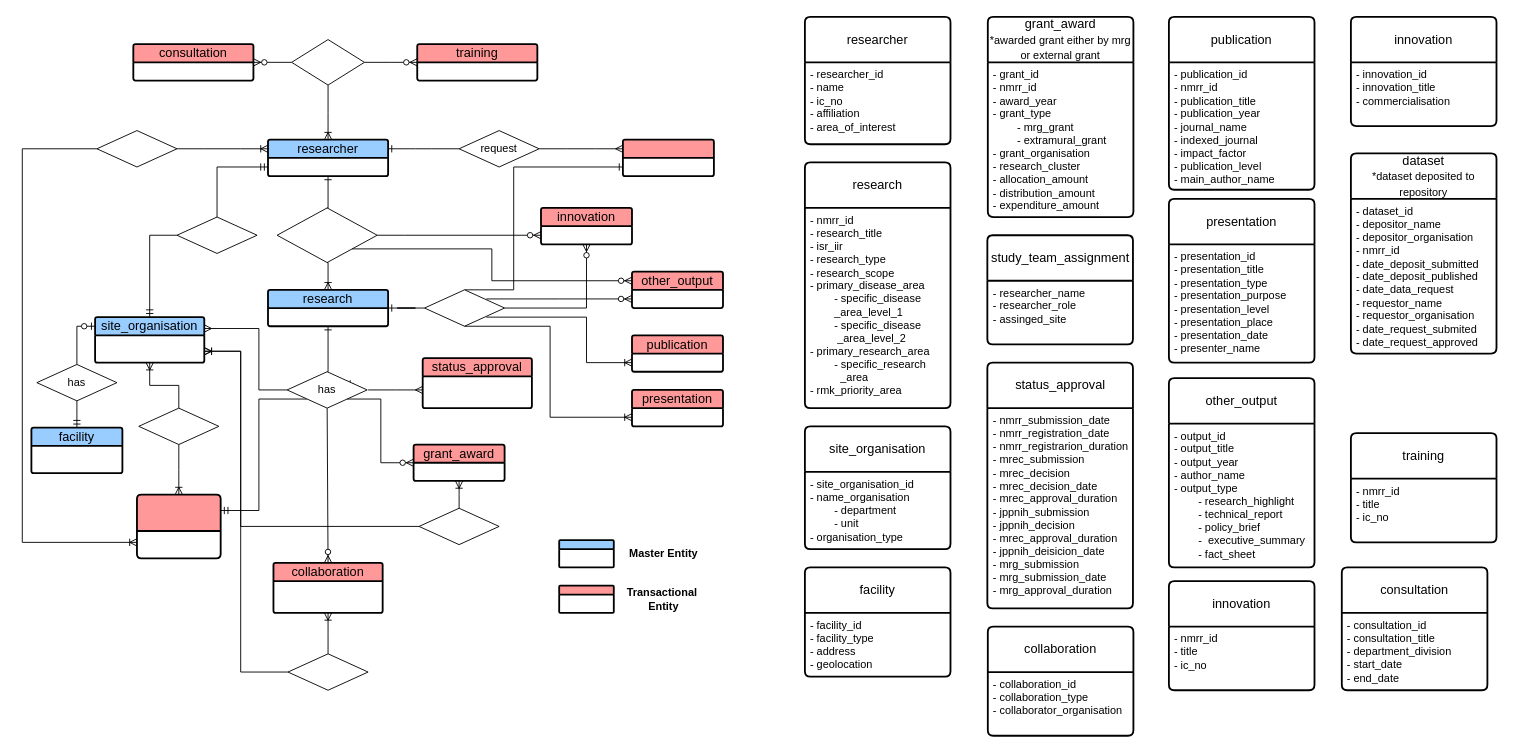
The diagram is 1513 pixels wide and 752 high, and some of its shapes have lost their labels. Here are the shapes that lost their labels. From the top down, the centre of each, then its label:
the point at 327,62: provide/ receive
the point at 136,148: is part of
the point at 668,157: dataset
the point at 216,234: belongs to
the point at 326,235: conducts / produces
the point at 464,307: produce
the point at 178,426: assigned to
the point at 178,526: study_team _assigment
the point at 458,526: awarded by
the point at 327,671: with
